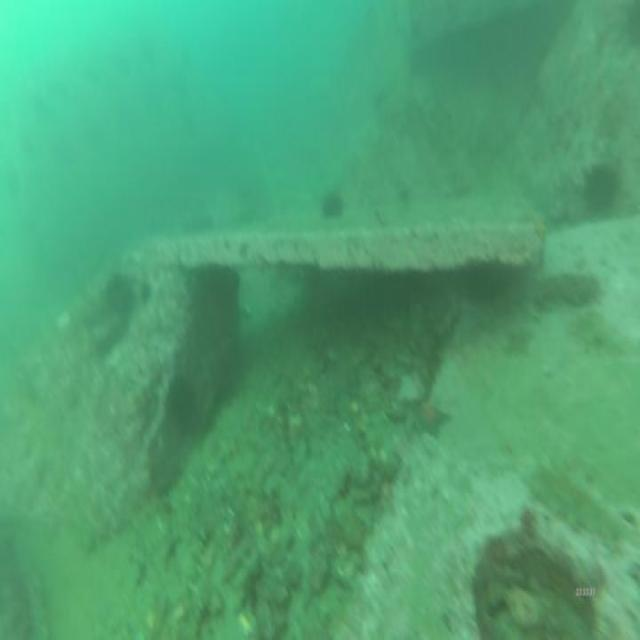echinus: (585, 158, 619, 223), (166, 372, 199, 436), (103, 264, 135, 322), (321, 185, 344, 226)
holothurian: (526, 460, 622, 548)
starfish: (412, 392, 449, 439)
